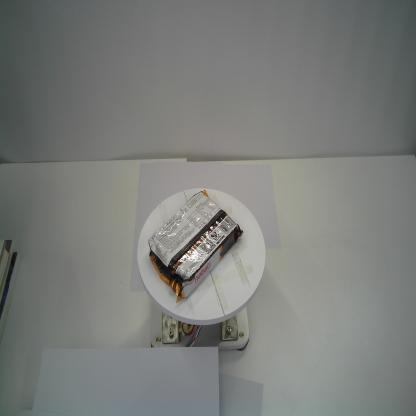Dessert: (147, 187, 245, 307)
